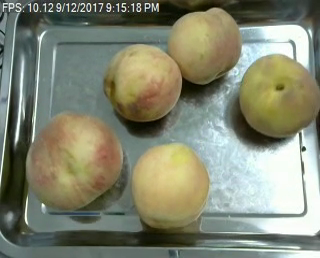Peach: (27, 110, 123, 212), (131, 142, 210, 229), (239, 53, 319, 138), (103, 42, 181, 122), (168, 8, 241, 85)
